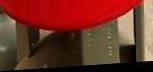cylinder: (1, 0, 153, 72)
